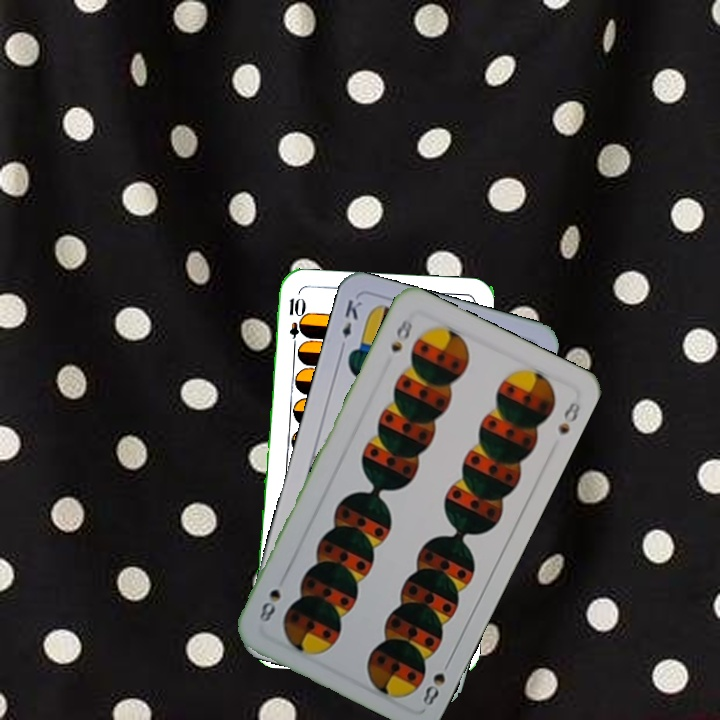E10: (285, 293, 303, 352)
EK: (335, 295, 364, 354)
S8: (418, 654, 454, 709), (386, 310, 415, 355)
